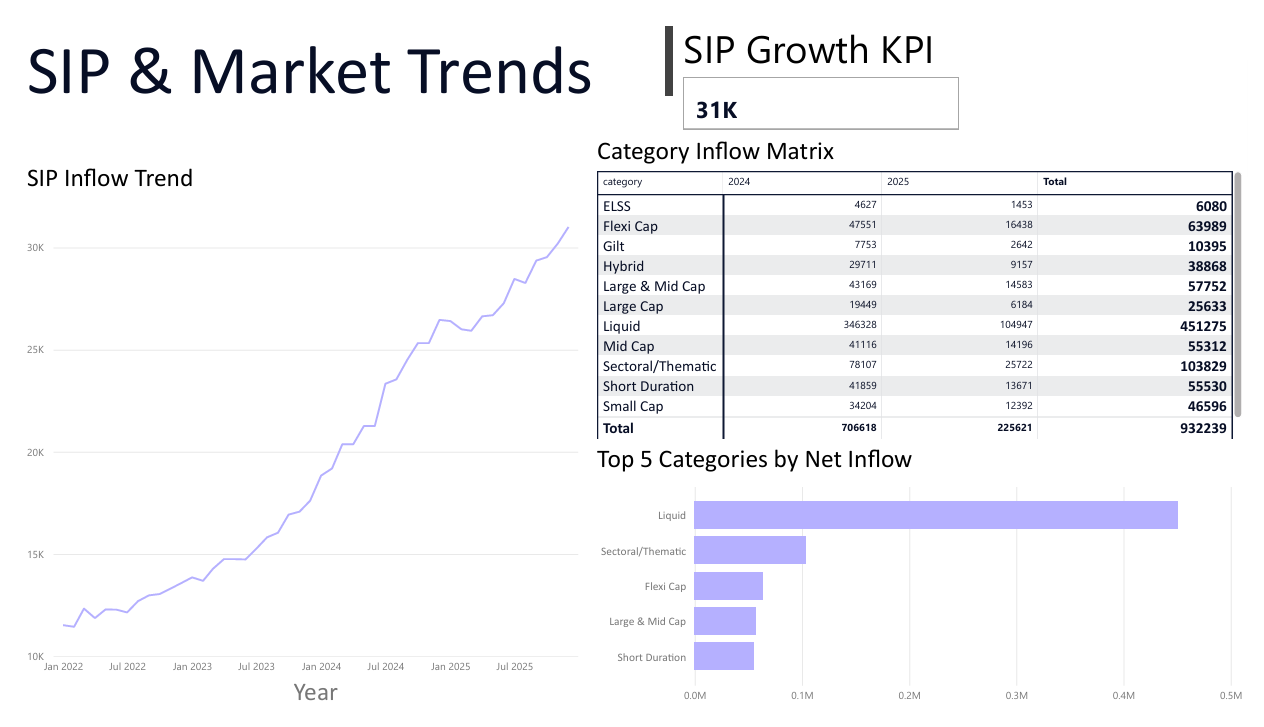

The dashboard page shown, as its layout file describes it:
{"tool":"powerbi","page":{"name":"SIP & Market Trends","canvas":[1280,720],"ordinal":3},"visuals":[{"type":"lineChart","title":"SIP Inflow Trend","fields":{"Y":["Sum(04_monthly_sip_inflows.sip_inflow_crore)"],"Category":["04_monthly_sip_inflows.month.Variation.Date Hierarchy.Year","04_monthly_sip_inflows.month.Variation.Date Hierarchy.Quarter","04_monthly_sip_inflows.month.Variation.Date Hierarchy.Month","04_monthly_sip_inflows.month.Variation.Date Hierarchy.Day"]},"box":[0,146,596,574],"z":0},{"type":"pivotTable","title":"Category Inflow Matrix","fields":{"Rows":["05_category_inflows.category"],"Values":["Sum(05_category_inflows.net_inflow_crore)"],"Columns":["05_category_inflows.month.Variation.Date Hierarchy.Year","05_category_inflows.month.Variation.Date Hierarchy.Quarter","05_category_inflows.month.Variation.Date Hierarchy.Month","05_category_inflows.month.Variation.Date Hierarchy.Day"]},"box":[596,118,684,322],"z":1000},{"type":"cardVisual","title":"SIP Growth KPI","fields":{"Data":["Max(04_monthly_sip_inflows.sip_inflow_crore)"]},"box":[686,0,298,118],"z":2000},{"type":"textbox","box":[0,0,685,90],"z":3000},{"type":"clusteredBarChart","title":"Top 5 Categories by Net Inflow ","fields":{"Y":["Sum(05_category_inflows.net_inflow_crore)"],"Category":["05_category_inflows.category"]},"box":[596,440,684,280],"z":4000}]}

Visuals, with their boxes in screenshot pixels (x1, y1, x2, y2), scaled from the page's 1280x720 canvas onto the 1264x727 screenshot:
"SIP Inflow Trend" lineChart: (0, 147, 589, 726)
"Category Inflow Matrix" pivotTable: (589, 119, 1263, 444)
"SIP Growth KPI" cardVisual: (677, 0, 972, 119)
textbox: (0, 0, 676, 91)
"Top 5 Categories by Net Inflow " clusteredBarChart: (589, 444, 1263, 726)
